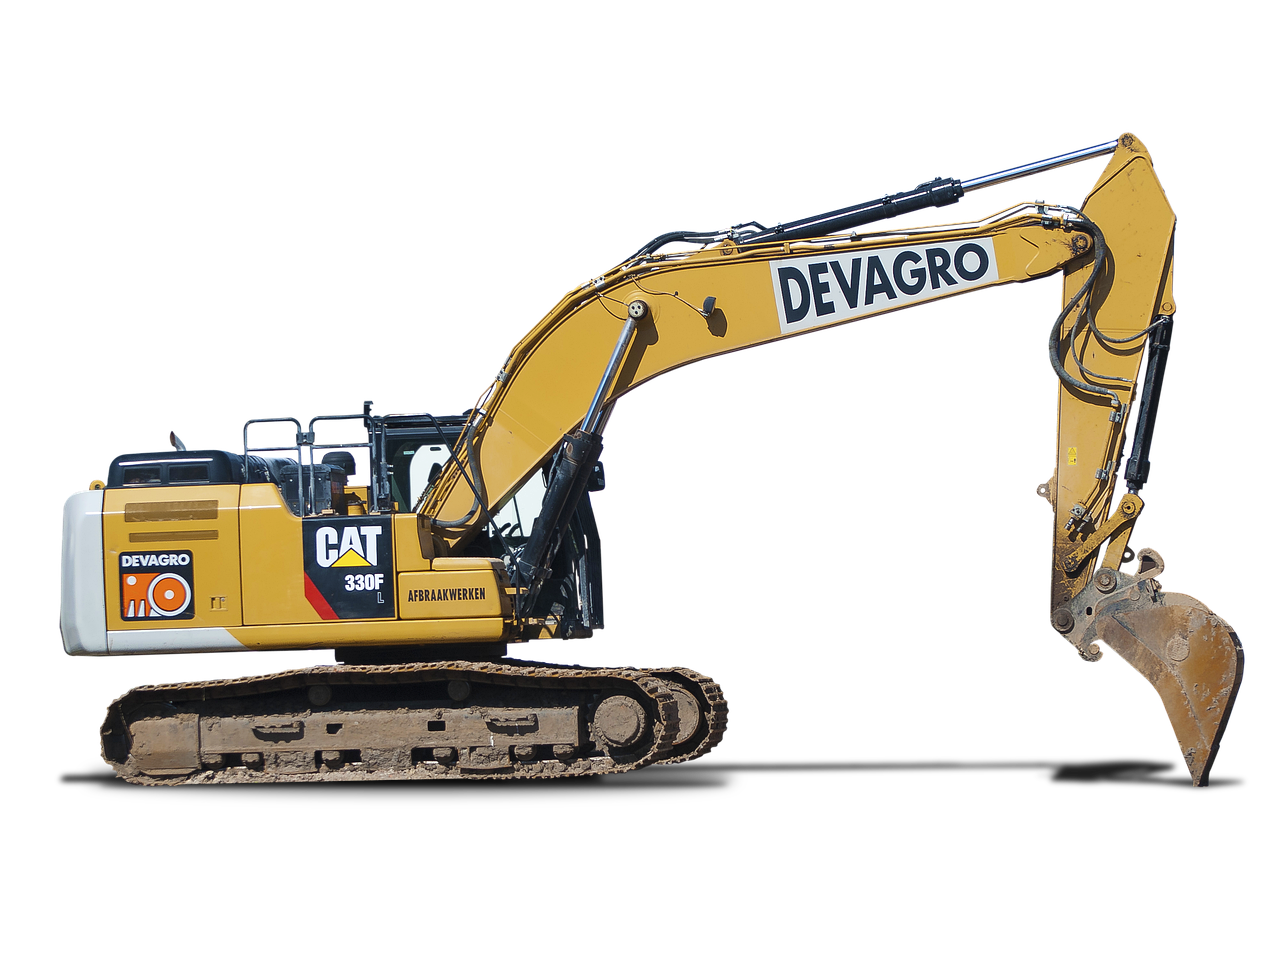excavator: (61, 120, 1259, 799)
